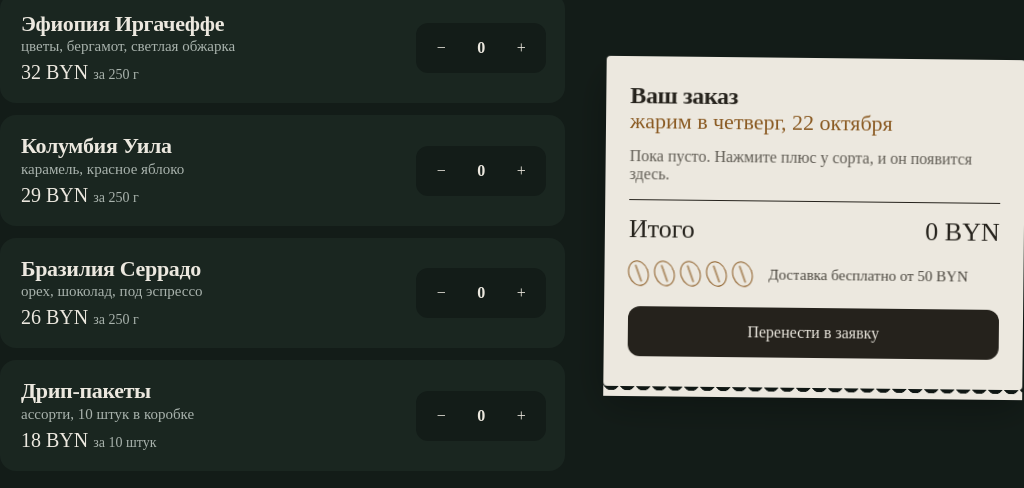
Scenario: BuildOrder › убирает позицию из чека на нуле
Click the button named "Добавить Дрип-пакеты" at (521,416), box [499,394,543,438]
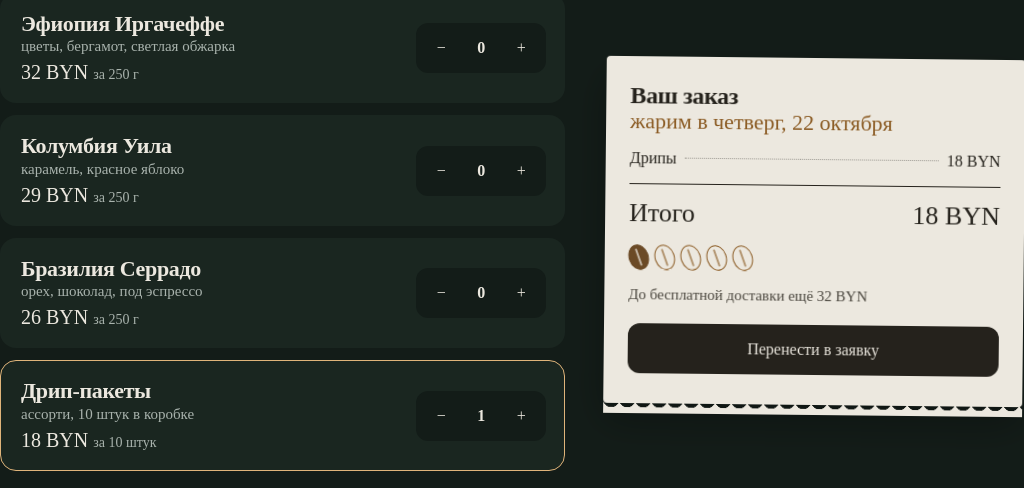
Click the button named "Убрать Дрип-пакеты" at (441,416), box [419,394,463,438]
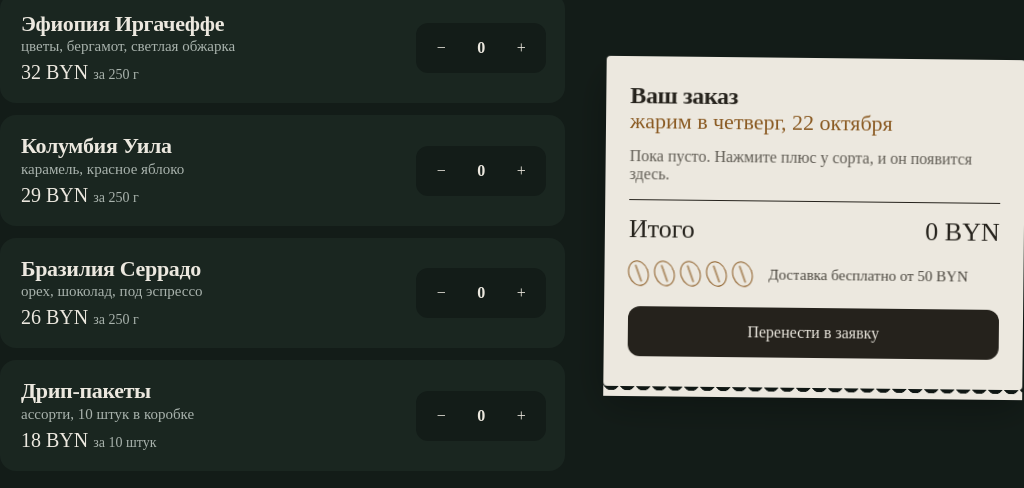
Expected: the list is gone
Expected: the text "Пока пусто. Нажмите плюс у сорта, и он появится здесь." is shown, [630,147,1001,187]
